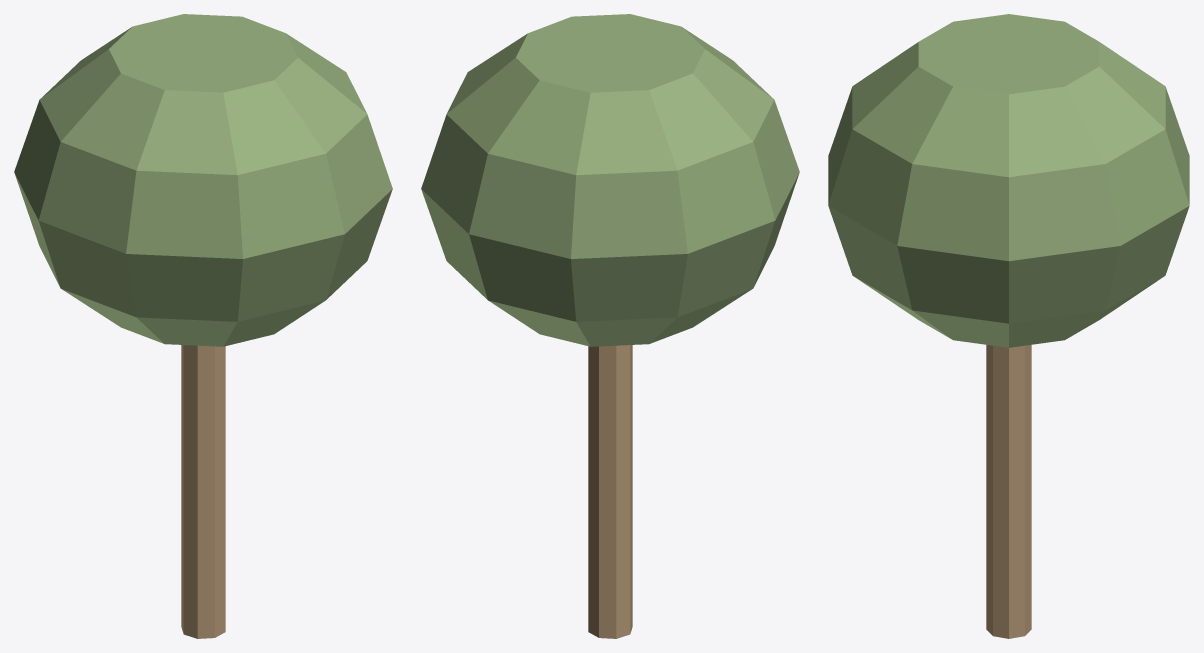
File: oak-arch-3.glb
3 renders of one model, left to right at view 1: azimuth 30°, elevation 25°; view 2: azimuth 150°, elevation 25°; view 3: azimuth 270°, elevation 25°, orthographic.
Parts seen in each view (by area): view 1: living roof, timber; view 2: living roof, timber; view 3: living roof, timber.
Boxes of the visible parts, x1,y1,x2,y2 form: living roof: (14,14,392,346); timber: (181,345,225,638); living roof: (421,14,799,346); timber: (588,345,632,638); living roof: (828,14,1189,347); timber: (986,345,1031,638).
Bounding box in the file's own units: 3.69 × 6.36 × 3.51.
